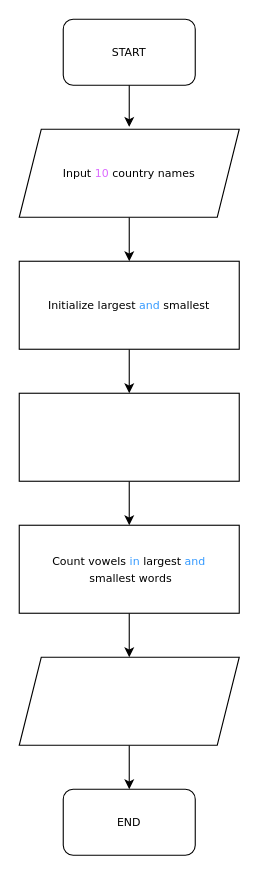
Image size: 259x875. Some labels were removed from this diagram. The shapes that lost their labels are listed below. From the top down, each one's centre as x and y in pixels, then its label:
At point (128, 436): "Loop through country names and update largest / smallest word".
At point (128, 700): "Output largest and smallest words, and vowel counts".
